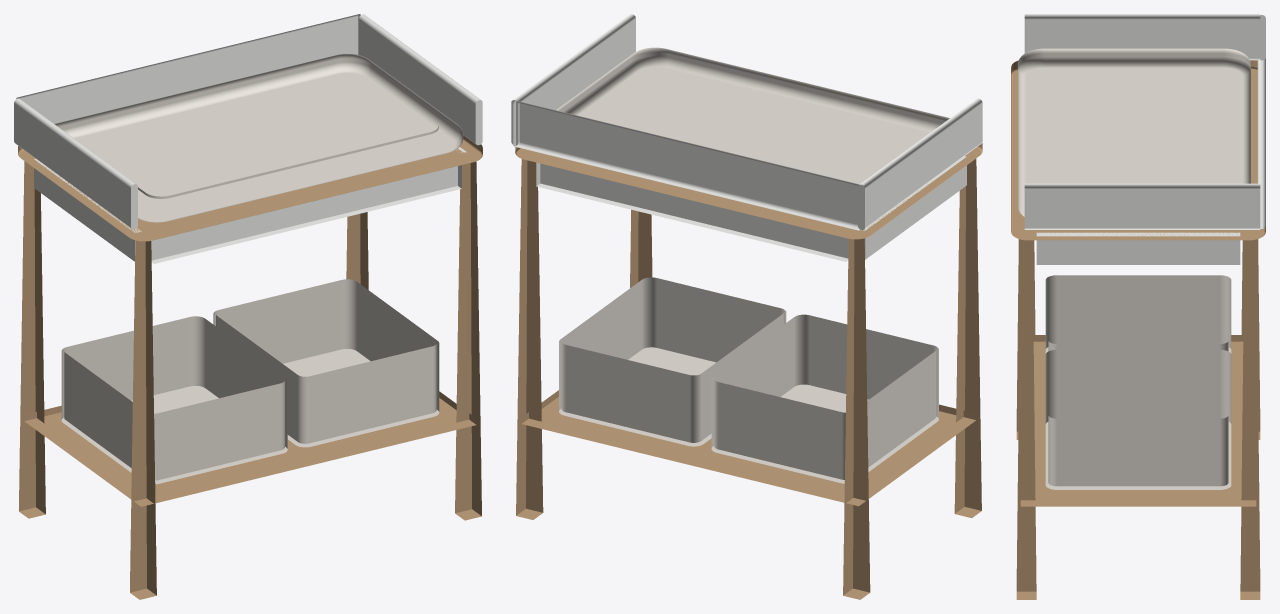
The model's file is v1_enclosure.glb.
3 views of the same model, side by side, from view 1: azimuth 30°, elevation 25°; view 2: azimuth 150°, elevation 25°; view 3: azimuth 270°, elevation 25° (orthographic).
Parts seen in each view (by area): view 1: fabric.3, fabric.1, fabric.2, body.5, wood.6, wood.5, wood.4, body.2, wood.3, wood.1, body.7, body.6 (+2 smaller); view 2: fabric.3, fabric.1, fabric.2, body.5, wood.6, wood.3, wood.2, body.1, wood.5, body.7, wood.1, body.6 (+2 smaller); view 3: fabric.3, fabric.2, fabric.1, body.6, body.7, wood.6, body.3, wood.2, wood.4, wood.1, body.5, wood.3 (+1 smaller).
Boxes of the visible parts, left/top/right/bottom form: fabric.3: left=55, top=53, right=463, bottom=222; fabric.1: left=61, top=316, right=287, bottom=484; fabric.2: left=213, top=279, right=439, bottom=447; body.5: left=16, top=14, right=360, bottom=123; wood.6: left=24, top=391, right=476, bottom=506; wood.5: left=130, top=240, right=156, bottom=599; wood.4: left=455, top=161, right=481, bottom=520; body.2: left=151, top=165, right=461, bottom=263; wood.3: left=19, top=161, right=45, bottom=518; wood.1: left=18, top=135, right=482, bottom=241; body.7: left=14, top=98, right=137, bottom=229; body.6: left=358, top=14, right=482, bottom=145; fabric.3: left=556, top=47, right=949, bottom=184; fabric.1: left=711, top=314, right=938, bottom=483; fabric.2: left=559, top=277, right=786, bottom=446; body.5: left=513, top=101, right=859, bottom=230; wood.6: left=521, top=390, right=976, bottom=506; wood.3: left=843, top=238, right=870, bottom=599; wood.2: left=516, top=159, right=543, bottom=519; body.1: left=536, top=162, right=848, bottom=261; wood.5: left=954, top=159, right=981, bottom=517; body.7: left=858, top=98, right=982, bottom=230; wood.1: left=515, top=143, right=982, bottom=239; body.6: left=511, top=14, right=635, bottom=145; fabric.3: left=1018, top=48, right=1250, bottom=216; fabric.2: left=1045, top=350, right=1231, bottom=489; fabric.1: left=1045, top=275, right=1231, bottom=353; body.6: left=1024, top=183, right=1260, bottom=229; body.7: left=1024, top=14, right=1260, bottom=60; wood.6: left=1020, top=335, right=1256, bottom=506; body.3: left=1036, top=232, right=1240, bottom=264; wood.2: left=1240, top=239, right=1260, bottom=599; wood.4: left=1016, top=239, right=1036, bottom=599; wood.1: left=1011, top=60, right=1265, bottom=240; body.5: left=1257, top=15, right=1265, bottom=228; wood.3: left=1241, top=239, right=1260, bottom=439.
Size of the model in its own units: 0.9 by 1.01 by 0.56.
